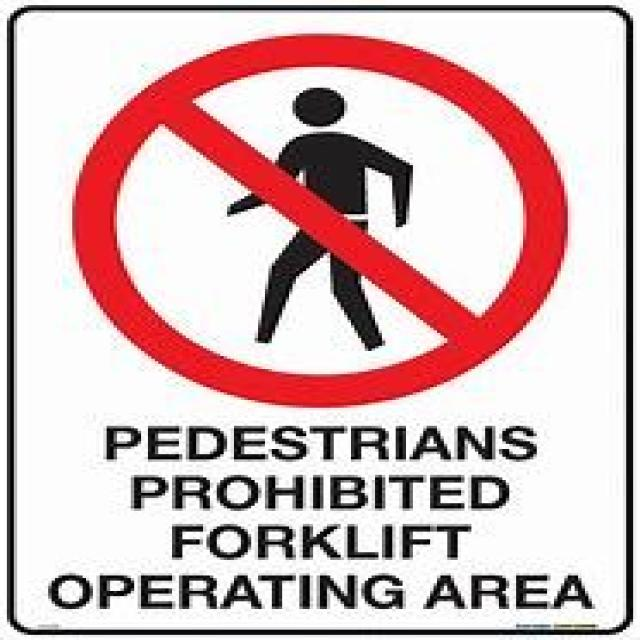Priority road: (66, 31, 572, 405)
